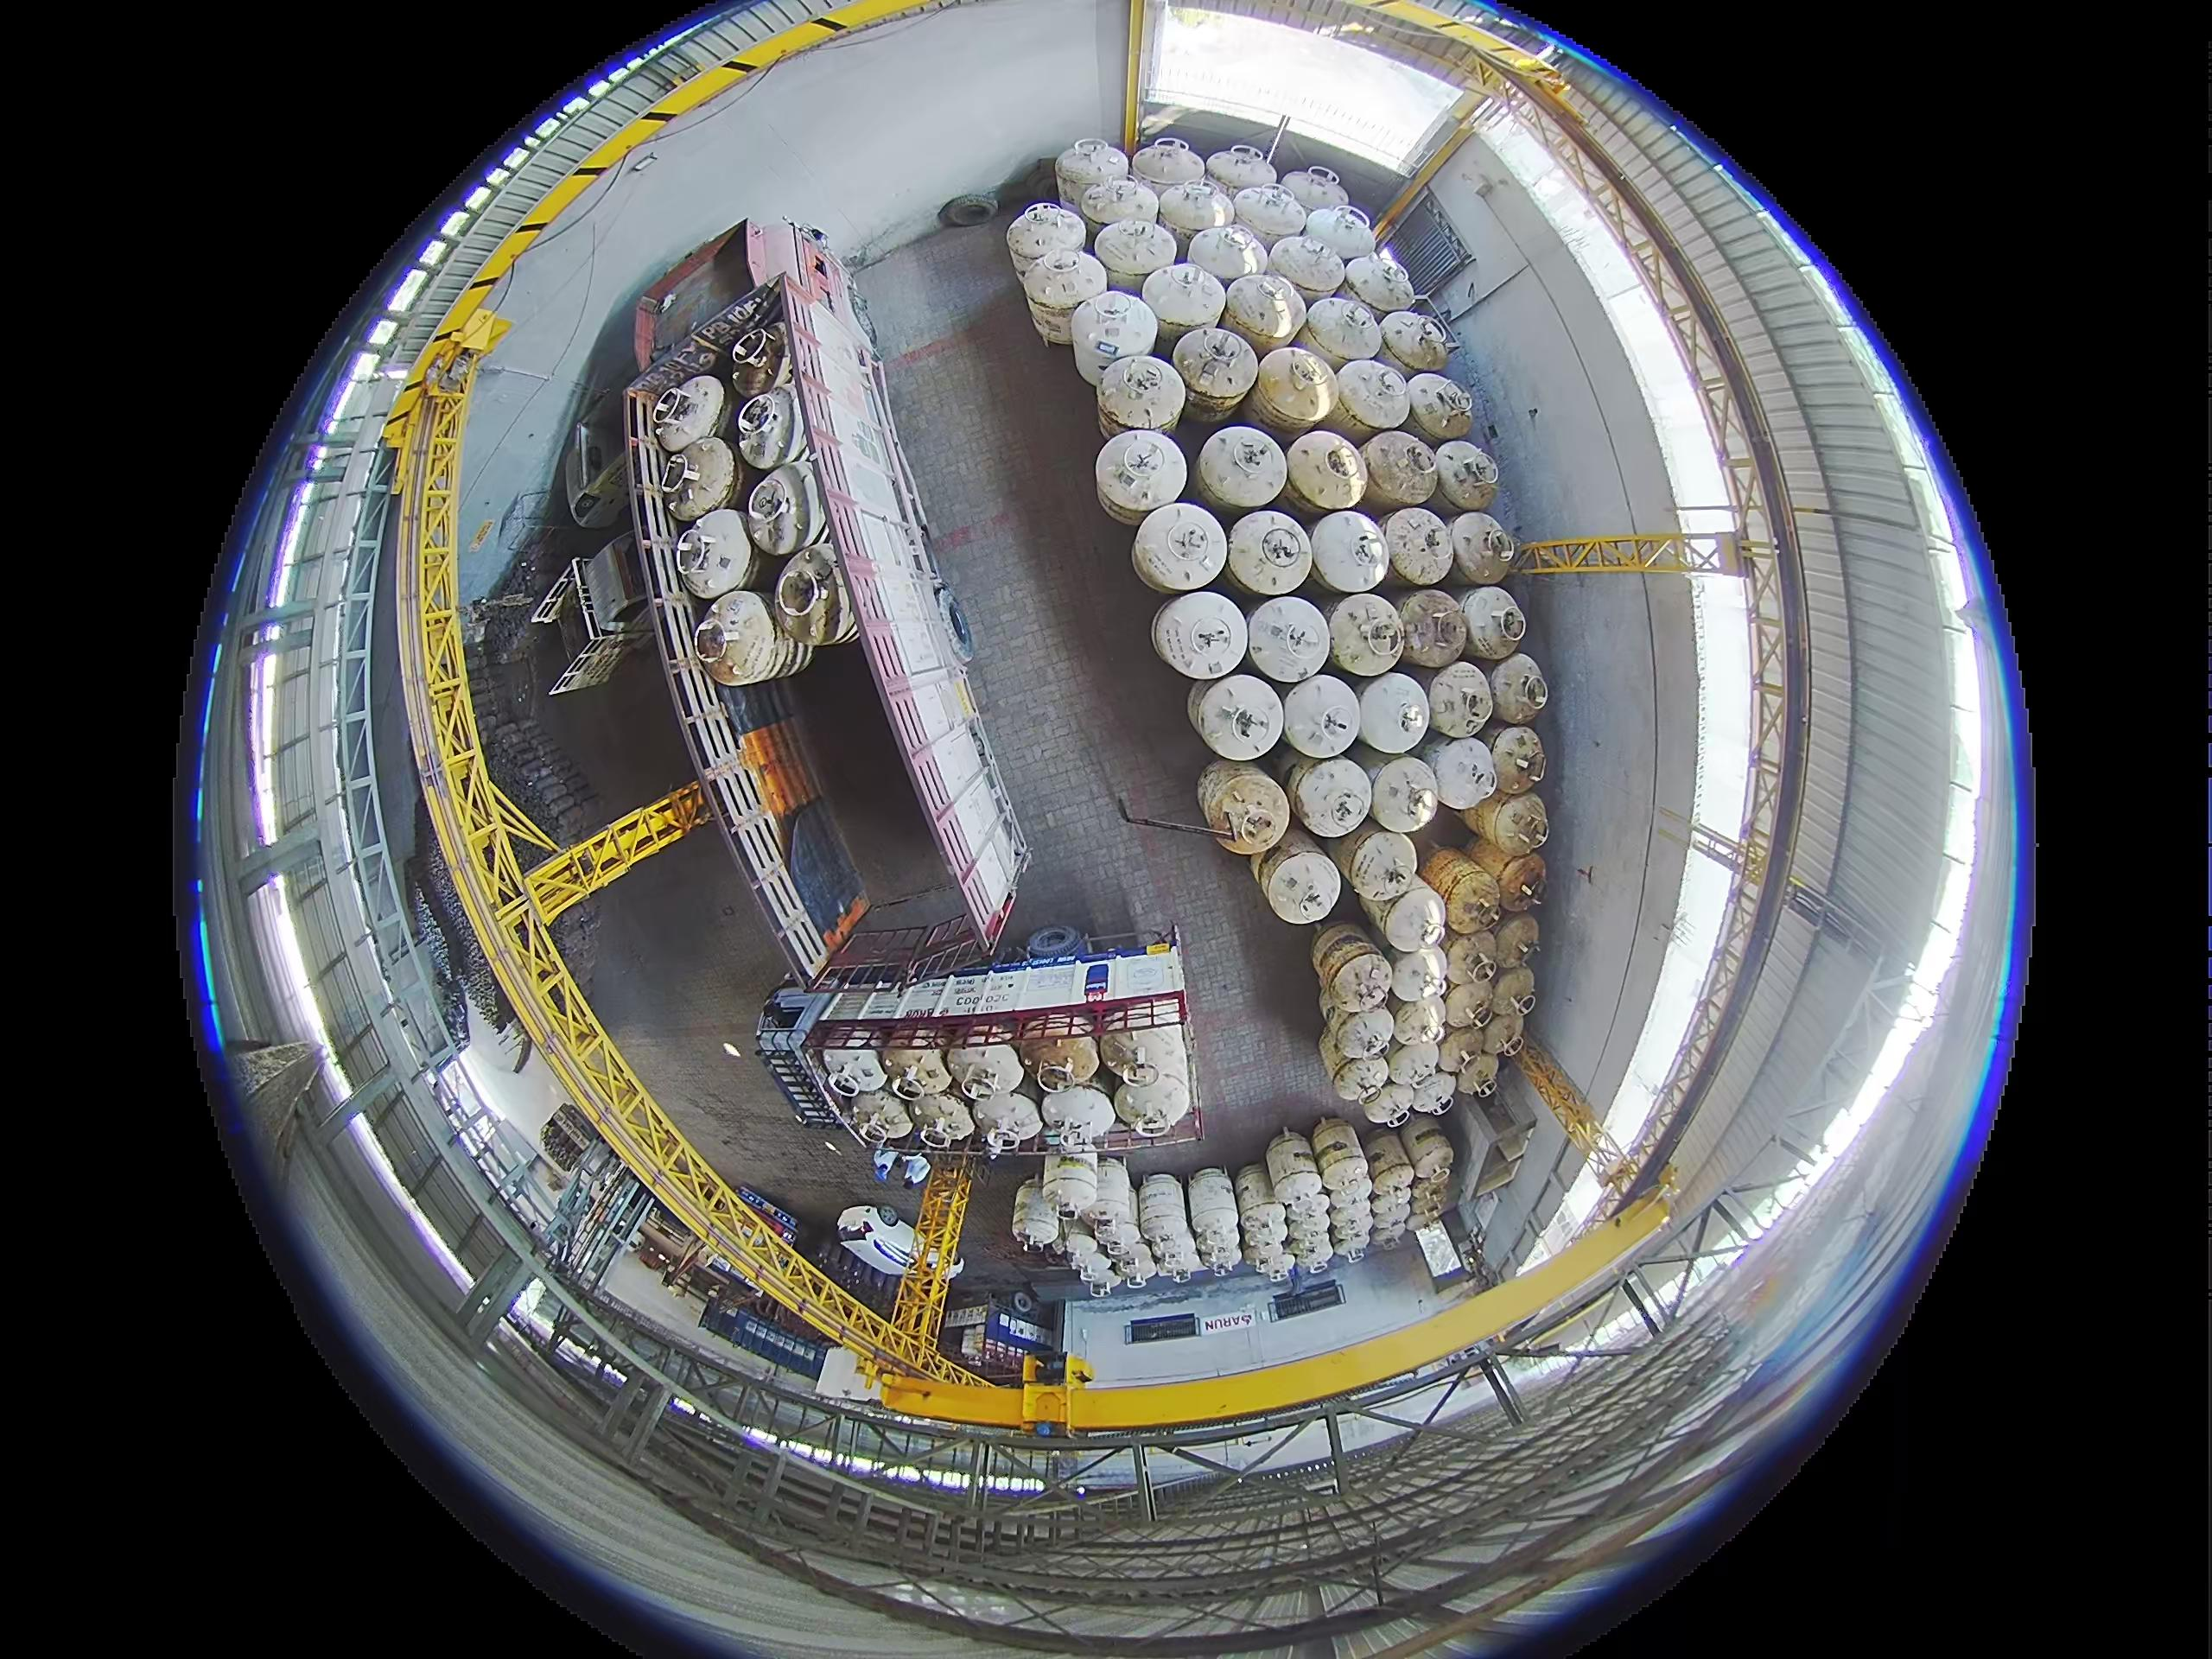cylinder: (691, 591, 803, 685), (770, 552, 864, 659), (1132, 502, 1228, 594), (1096, 429, 1188, 525), (1153, 591, 1247, 683), (1190, 673, 1284, 762), (1197, 760, 1287, 850), (1197, 425, 1287, 512), (744, 460, 822, 559), (1256, 836, 1343, 925), (1228, 511, 1315, 598), (1252, 345, 1339, 432), (1418, 847, 1505, 934), (1244, 596, 1329, 685), (672, 507, 758, 596), (1172, 324, 1259, 410), (1280, 673, 1366, 758), (1289, 755, 1374, 840), (1285, 429, 1369, 516), (1069, 291, 1153, 378), (1308, 509, 1392, 594), (1097, 352, 1183, 436), (1339, 824, 1421, 910), (1141, 260, 1226, 340), (658, 434, 738, 519), (1221, 272, 1306, 350), (1256, 1134, 1334, 1220), (1362, 429, 1440, 512), (1325, 592, 1404, 674), (651, 373, 730, 455), (1334, 355, 1413, 436), (1395, 589, 1472, 669), (1357, 673, 1432, 755), (1303, 295, 1385, 369), (1385, 507, 1460, 587), (1367, 755, 1442, 835), (1268, 234, 1348, 303), (1461, 835, 1543, 903), (733, 387, 799, 471), (1426, 735, 1500, 810), (1426, 660, 1496, 739), (1096, 218, 1176, 286), (1188, 221, 1270, 288), (1007, 202, 1083, 270), (1157, 179, 1233, 247), (1082, 176, 1160, 242), (1460, 586, 1527, 660), (1404, 371, 1474, 443), (1379, 310, 1453, 378), (1383, 880, 1451, 953), (1055, 139, 1130, 206), (1433, 439, 1501, 511), (1451, 511, 1517, 584), (1341, 251, 1416, 315), (1303, 204, 1378, 267), (1231, 183, 1308, 244), (1014, 1180, 1073, 1258), (1484, 791, 1552, 859), (1183, 1168, 1244, 1243), (1129, 138, 1205, 197), (1158, 1192, 1261, 1236), (728, 322, 789, 396), (1322, 957, 1392, 1019), (1486, 725, 1547, 796), (1487, 653, 1548, 723), (1040, 1154, 1108, 1215), (1022, 288, 1085, 352), (1329, 1007, 1397, 1066), (1386, 948, 1449, 1011), (1207, 143, 1277, 199), (1444, 929, 1503, 993), (1472, 1134, 1527, 1201), (1280, 166, 1350, 216), (1317, 1122, 1369, 1188), (1148, 1169, 1191, 1243), (1440, 979, 1496, 1035), (1390, 997, 1444, 1051), (1489, 964, 1536, 1023), (1437, 1025, 1487, 1077), (1493, 917, 1541, 971), (1186, 678, 1226, 742), (1477, 1011, 1526, 1063), (780, 561, 827, 615), (1458, 1051, 1500, 1098), (1094, 1229, 1155, 1256), (1258, 1222, 1291, 1251)
truck: (627, 221, 1028, 979), (695, 953, 1235, 1182), (533, 1141, 791, 1326), (529, 542, 660, 697)
